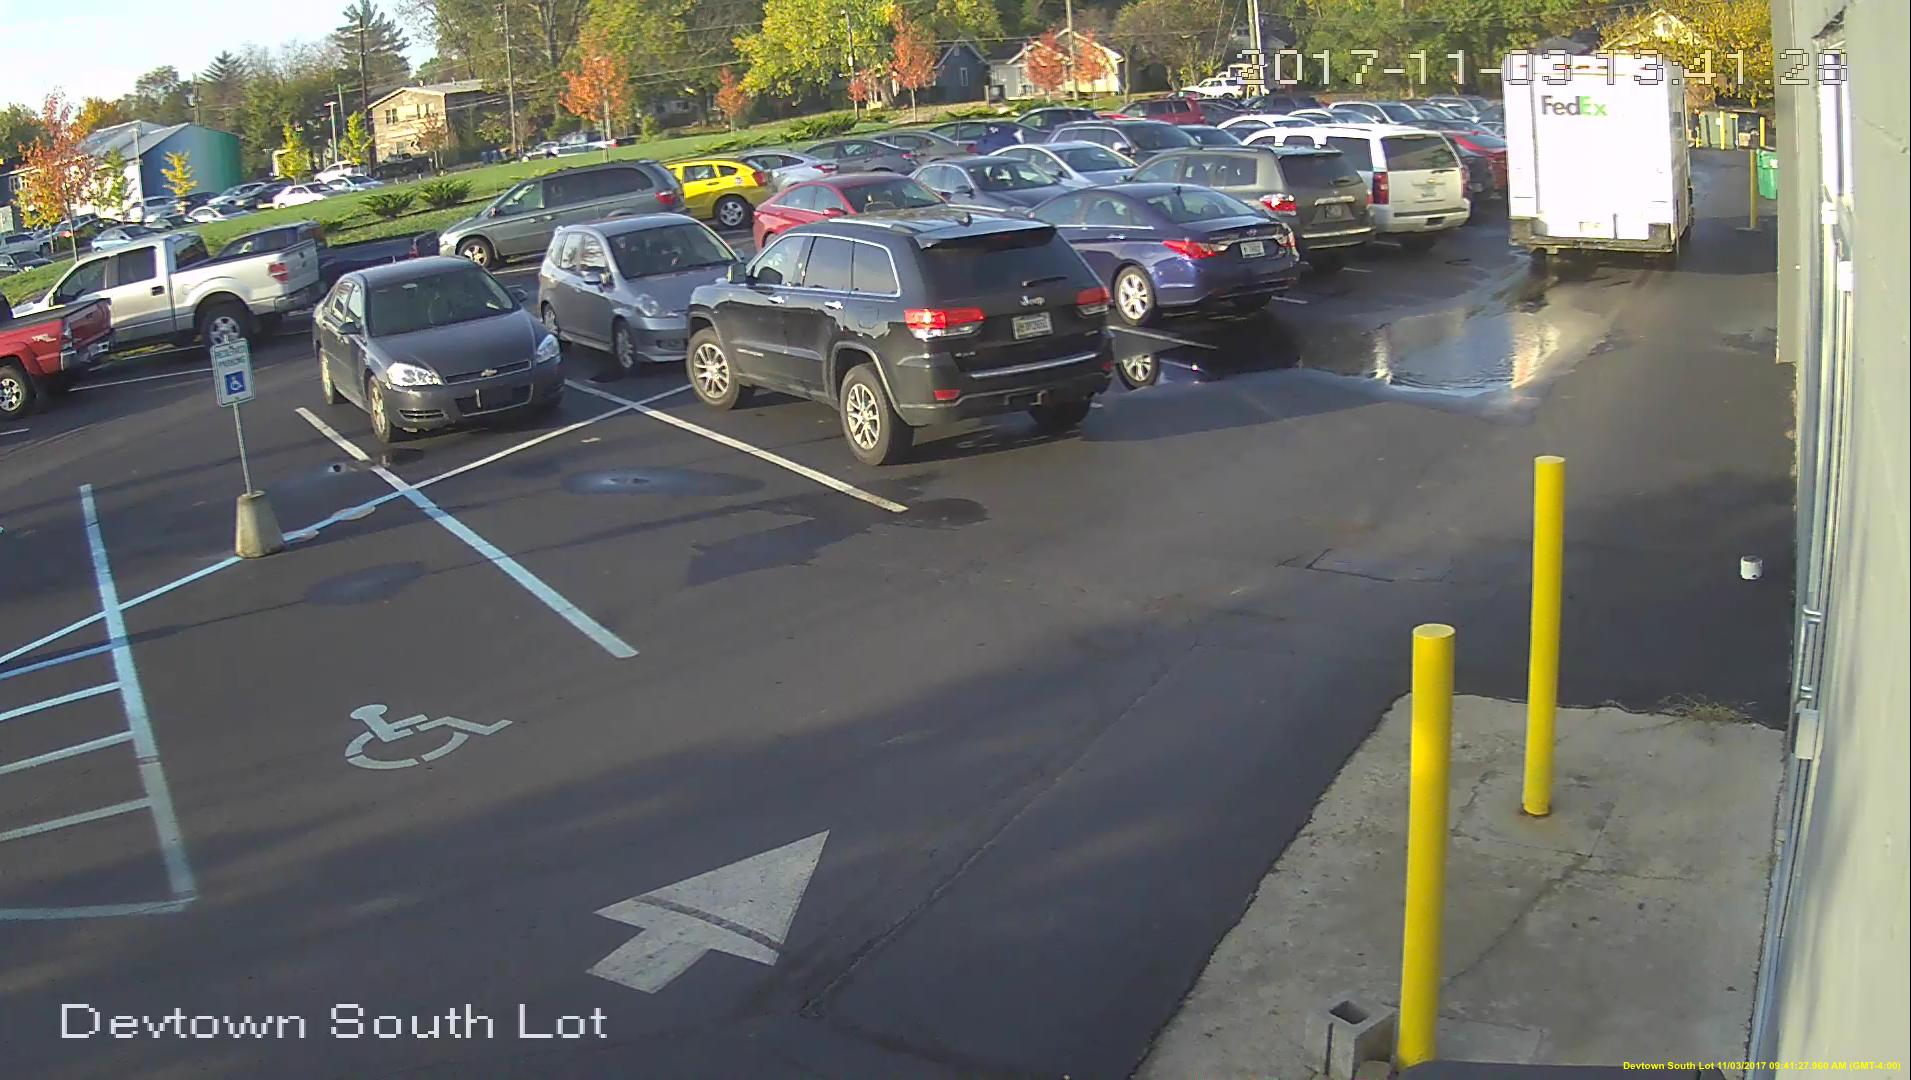fedex_truck: (1494, 47, 1700, 273)
